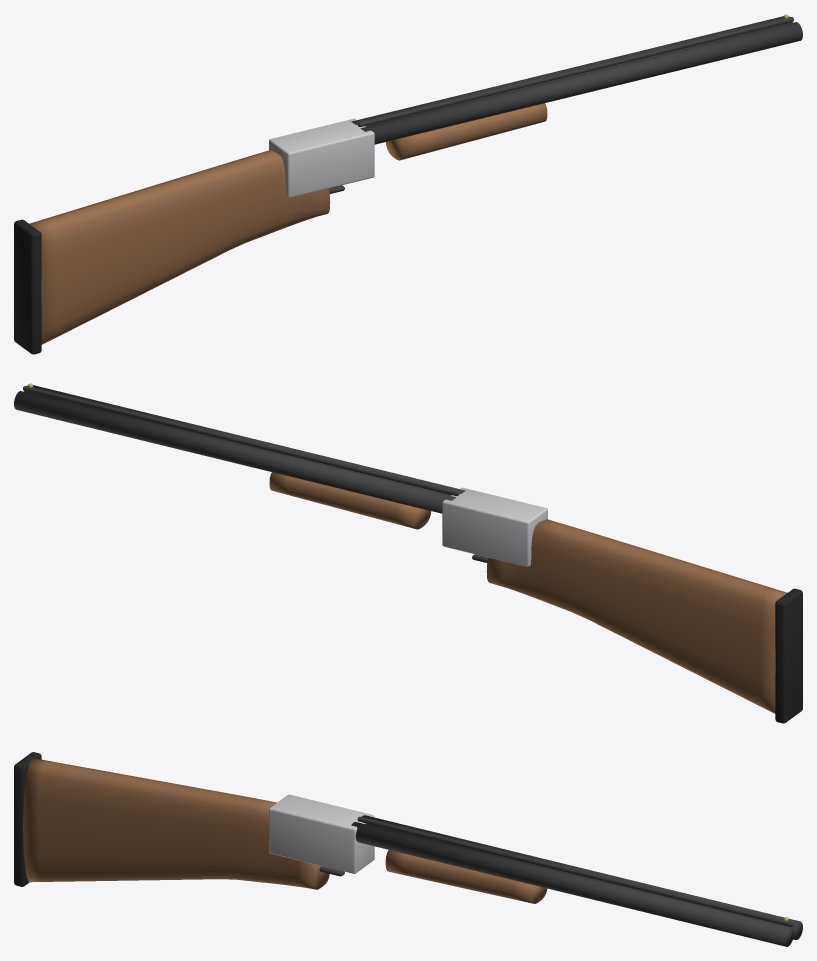
File: SM_DoubleBarrel.glb
The picture shows the model from 3 angles, top to bottom: view 1: azimuth 30°, elevation 25°; view 2: azimuth 150°, elevation 25°; view 3: azimuth 330°, elevation 25°; orthographic projection.
Visible parts, largest first — view 1: SM_DoubleBarrel; view 2: SM_DoubleBarrel; view 3: SM_DoubleBarrel.
Part boxes in pixels (x1,y1,x2,y2): SM_DoubleBarrel: (14,14,802,354); SM_DoubleBarrel: (14,383,802,723); SM_DoubleBarrel: (14,752,802,946).
Bounding box in the file's own units: 1.06 × 0.195 × 0.048.
